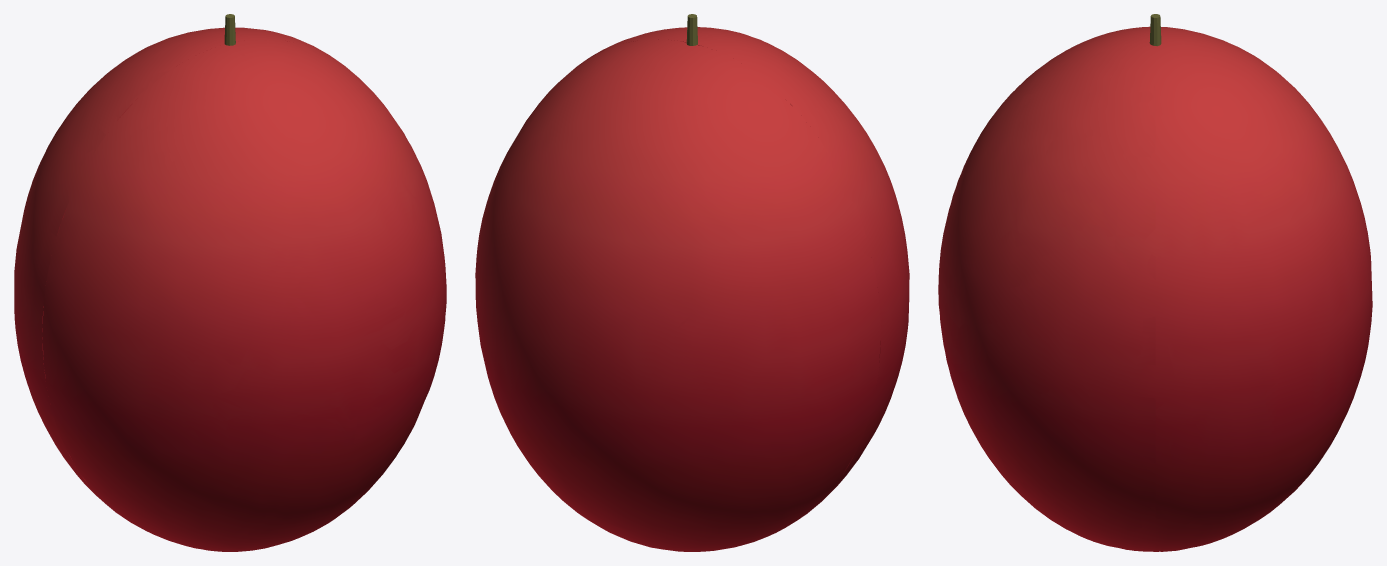
Rendered from raisin-rose.glb.
3 views of the same model, side by side, from view 1: azimuth 30°, elevation 25°; view 2: azimuth 150°, elevation 25°; view 3: azimuth 270°, elevation 25° (orthographic).
Parts seen in each view (by area): view 1: moitie_B_peau, entier_peau, moitie_A_peau; view 2: moitie_A_peau, entier_peau, moitie_B_peau; view 3: entier_peau, moitie_B_peau, moitie_A_peau.
Part boxes in pixels (<box>): moitie_B_peau: <box>42,39,445,551</box>; entier_peau: <box>14,28,446,551</box>; moitie_A_peau: <box>14,27,327,502</box>; moitie_A_peau: <box>476,39,880,551</box>; entier_peau: <box>475,27,909,551</box>; moitie_B_peau: <box>591,27,909,503</box>; entier_peau: <box>938,27,1371,551</box>; moitie_B_peau: <box>938,26,1155,551</box>; moitie_A_peau: <box>1155,29,1372,551</box>.
Size of the model in its own units: 1.44 by 1.9 by 1.44.
